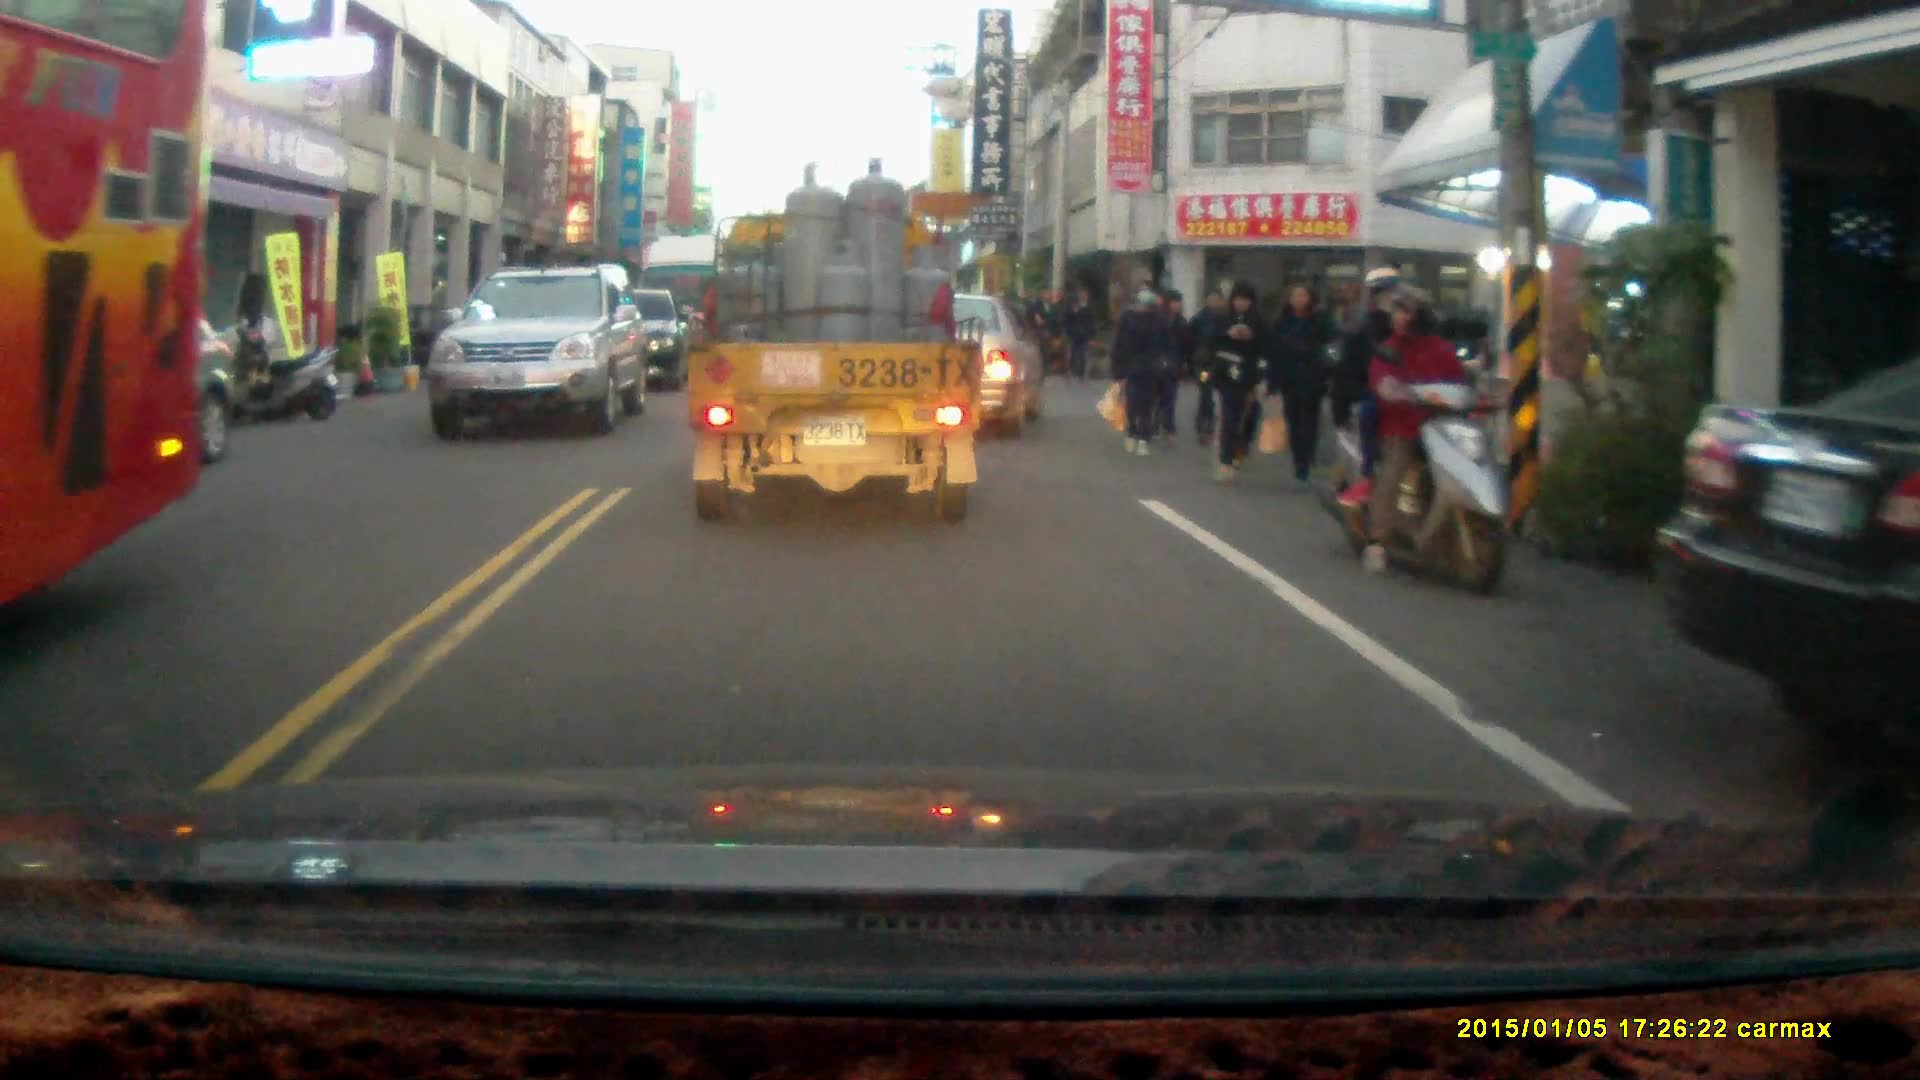pedestrian: (1257, 278, 1339, 482), (1202, 280, 1264, 479), (1110, 279, 1169, 459), (1182, 283, 1242, 437), (1144, 286, 1191, 439), (1028, 282, 1065, 382), (1062, 280, 1097, 381)
rider: (1311, 257, 1511, 583)
vehicle: (1, 7, 215, 603), (680, 150, 982, 524), (1667, 360, 1920, 756), (432, 263, 652, 437), (813, 286, 1052, 438)
